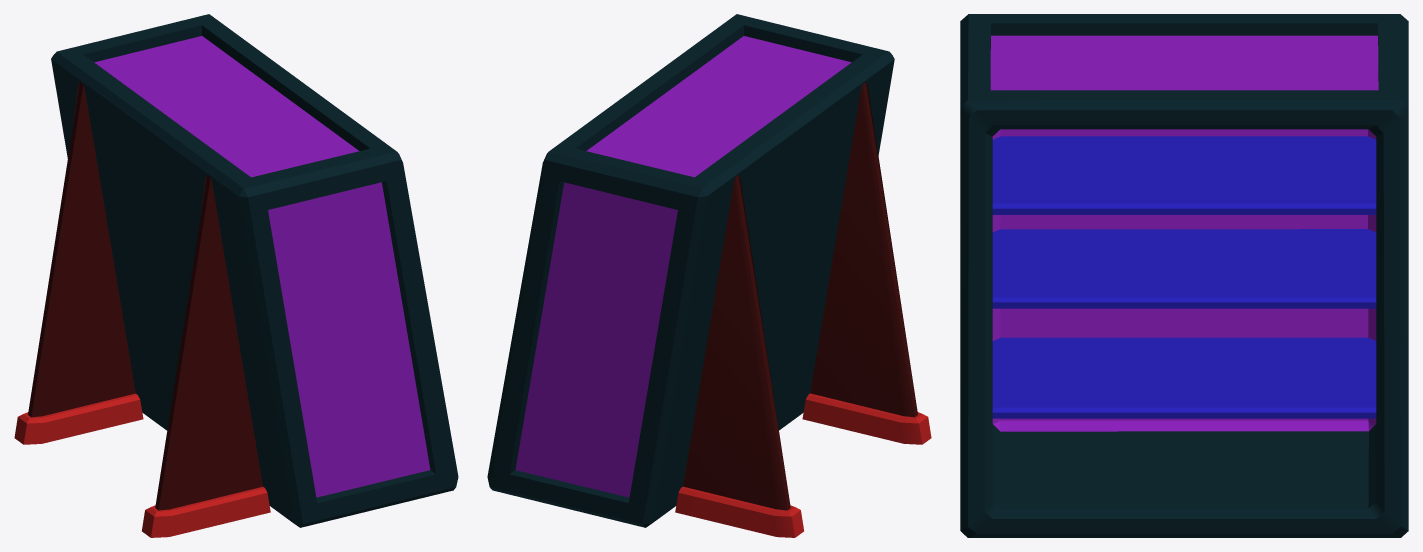
The model's file is MESH_DisplayStand.fbx.
3 renders of one model, left to right at view 1: azimuth 30°, elevation 25°; view 2: azimuth 150°, elevation 25°; view 3: azimuth 270°, elevation 25°, orthographic. The views are drawn at different scales.
Visible parts, largest first — view 1: MESH_DisplayStand; view 2: MESH_DisplayStand; view 3: MESH_DisplayStand.
Boxes of the visible parts, x1,y1,x2,y2 form: MESH_DisplayStand: [14, 14, 458, 537]; MESH_DisplayStand: [487, 14, 931, 537]; MESH_DisplayStand: [960, 14, 1408, 537].
Size of the model in its own units: 0.8387 by 1 by 1.
